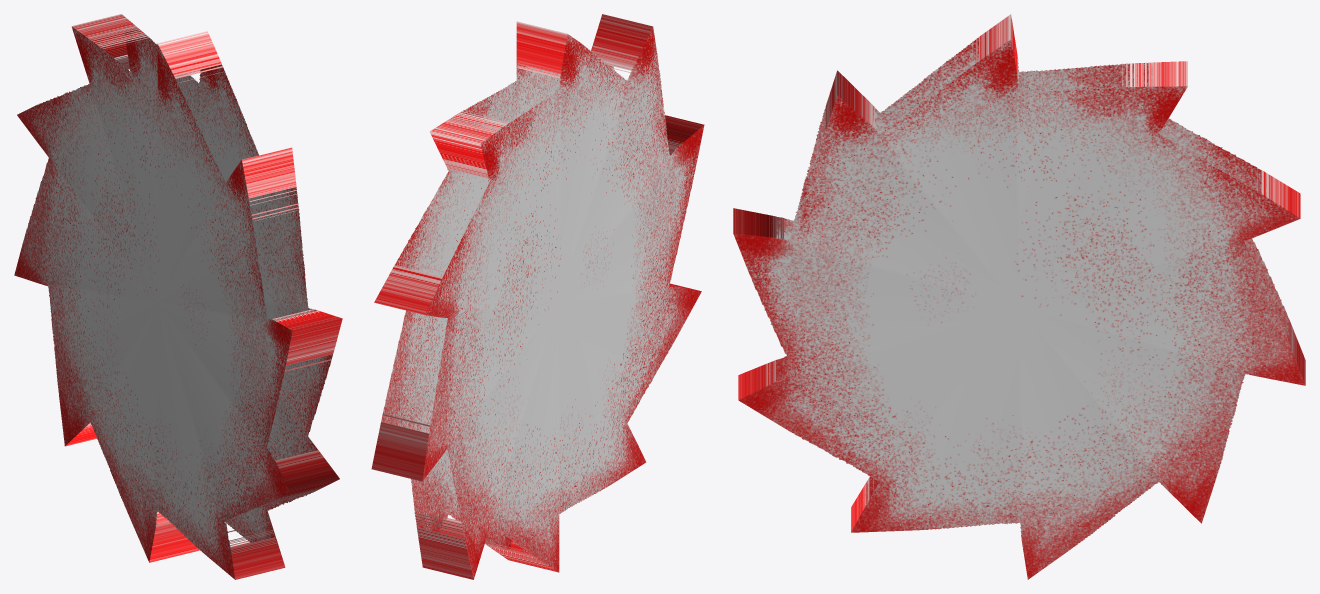
Rendered from Bloodied saw maya.fbx.
The picture shows the model from 3 angles, left to right: view 1: azimuth 30°, elevation 25°; view 2: azimuth 150°, elevation 25°; view 3: azimuth 270°, elevation 25°; orthographic projection. The views are drawn at different scales.
Visible parts, largest first — view 1: pCylinder1; view 2: pCylinder1; view 3: pCylinder1.
Boxes of the visible parts, x1,y1,x2,y2 form: pCylinder1: [14, 14, 342, 579]; pCylinder1: [371, 14, 704, 579]; pCylinder1: [733, 14, 1305, 579].
Bounding box in the file's own units: 2.47 × 24.67 × 23.67.
